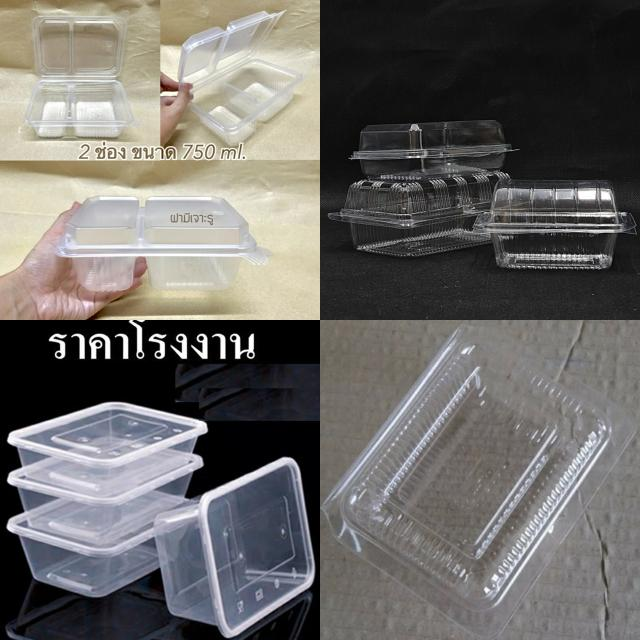Single-Use-Plastic: (322, 326, 635, 638), (155, 458, 315, 638), (56, 198, 271, 291), (8, 402, 208, 498), (8, 450, 202, 548), (8, 491, 186, 597), (178, 10, 306, 144), (329, 165, 509, 256), (474, 180, 636, 268), (24, 16, 134, 139), (350, 120, 512, 176)
